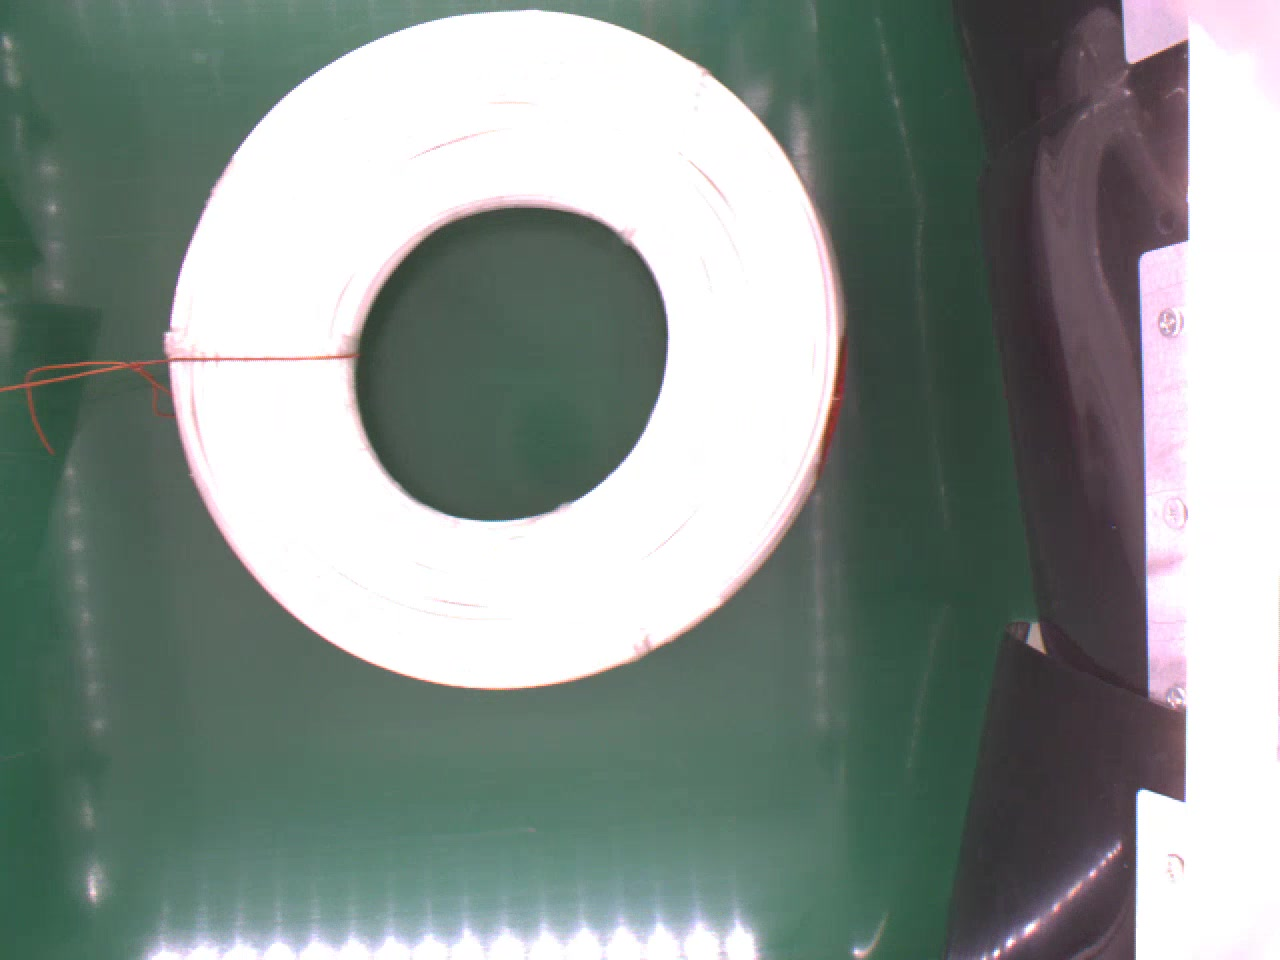white: (163, 11, 860, 695)
